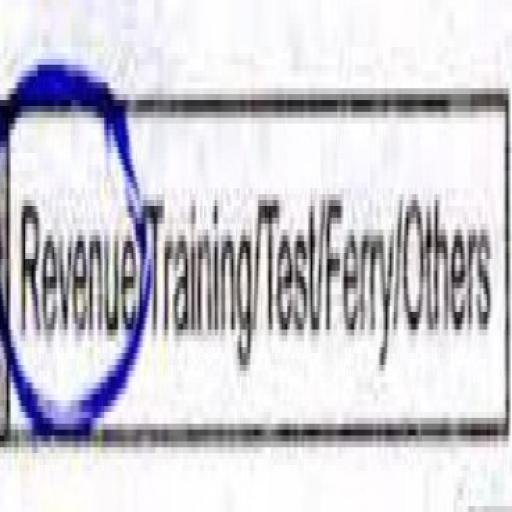check: (2, 0, 146, 479)
